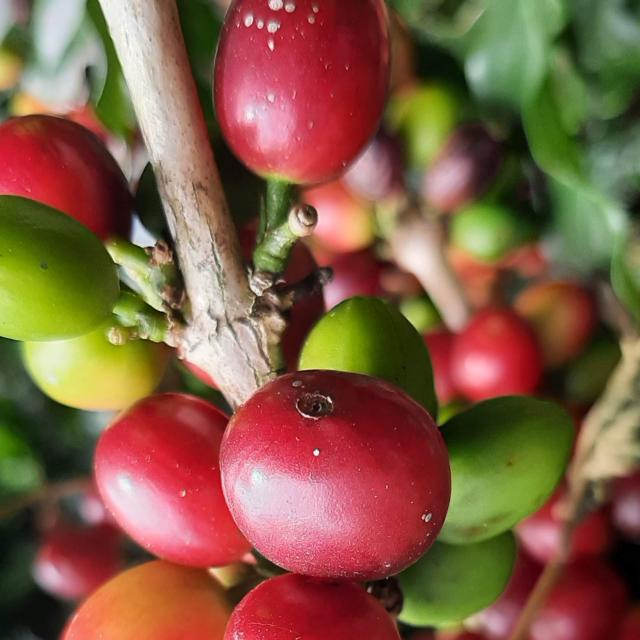green: (439, 396, 575, 545), (0, 195, 119, 341), (299, 296, 438, 418), (398, 533, 517, 628)
red: (220, 371, 451, 582), (214, 0, 390, 184), (94, 394, 251, 569), (0, 114, 130, 239), (224, 574, 401, 640)
yellow: (60, 561, 232, 640), (21, 329, 169, 411)
